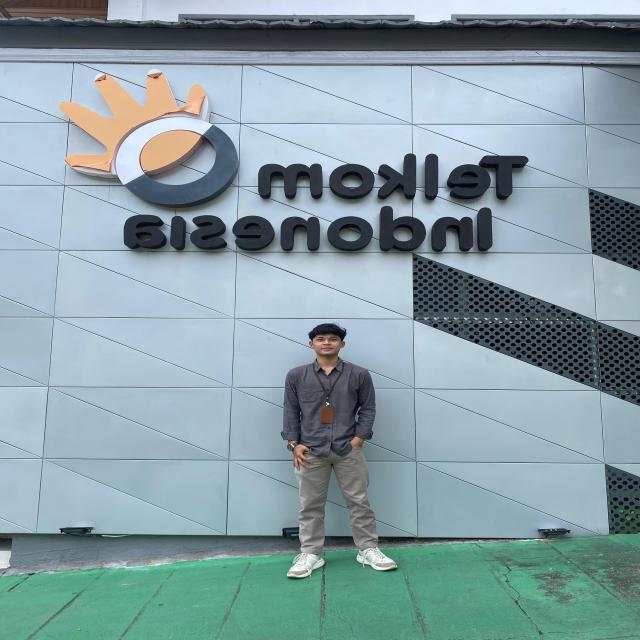nohelmet: (298, 322, 354, 368)
